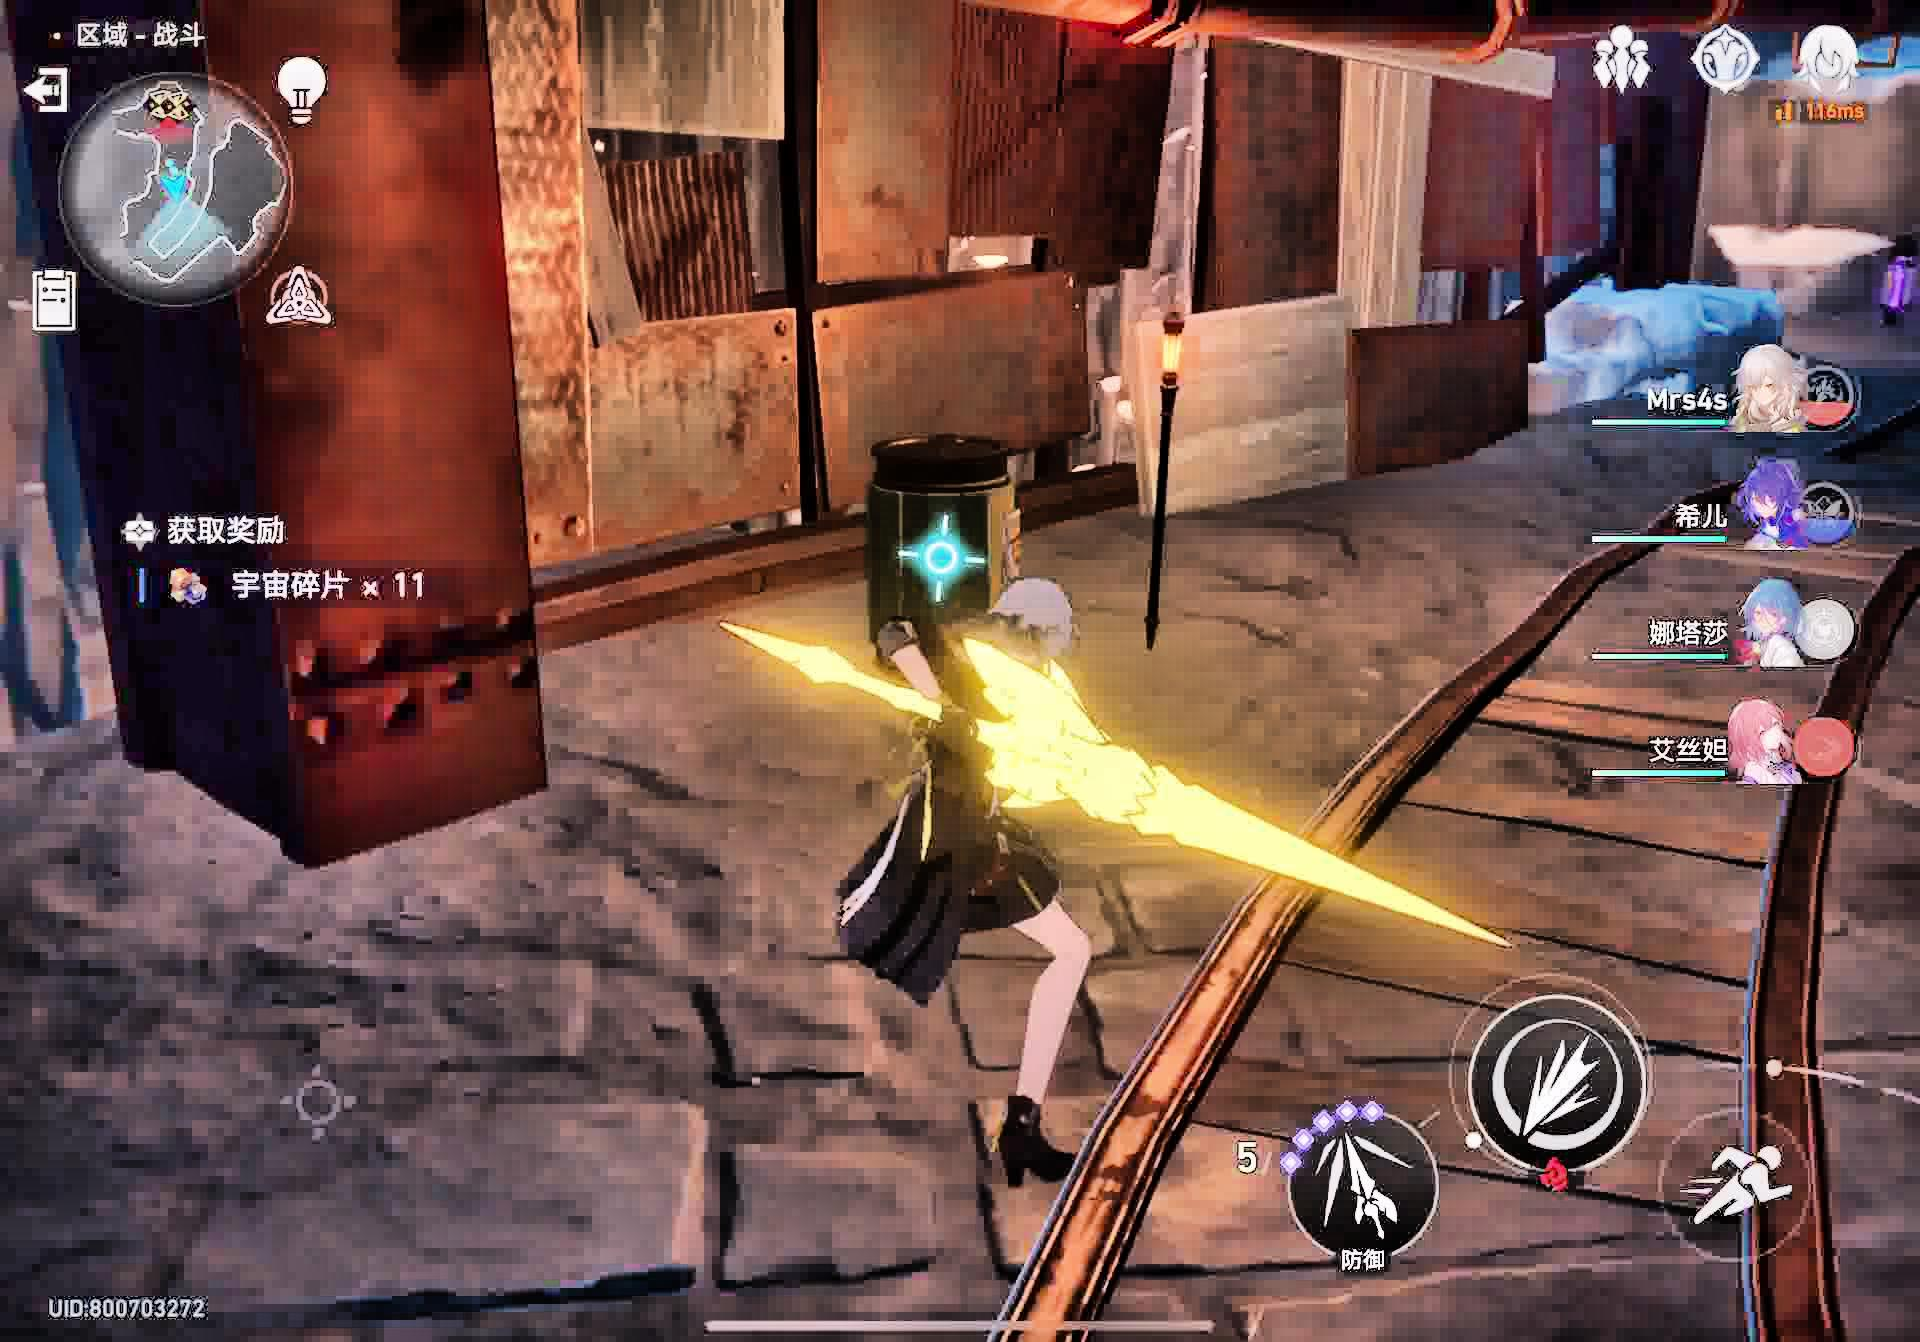Box: (870, 430, 1014, 668)
Self: (851, 588, 1135, 1138)
